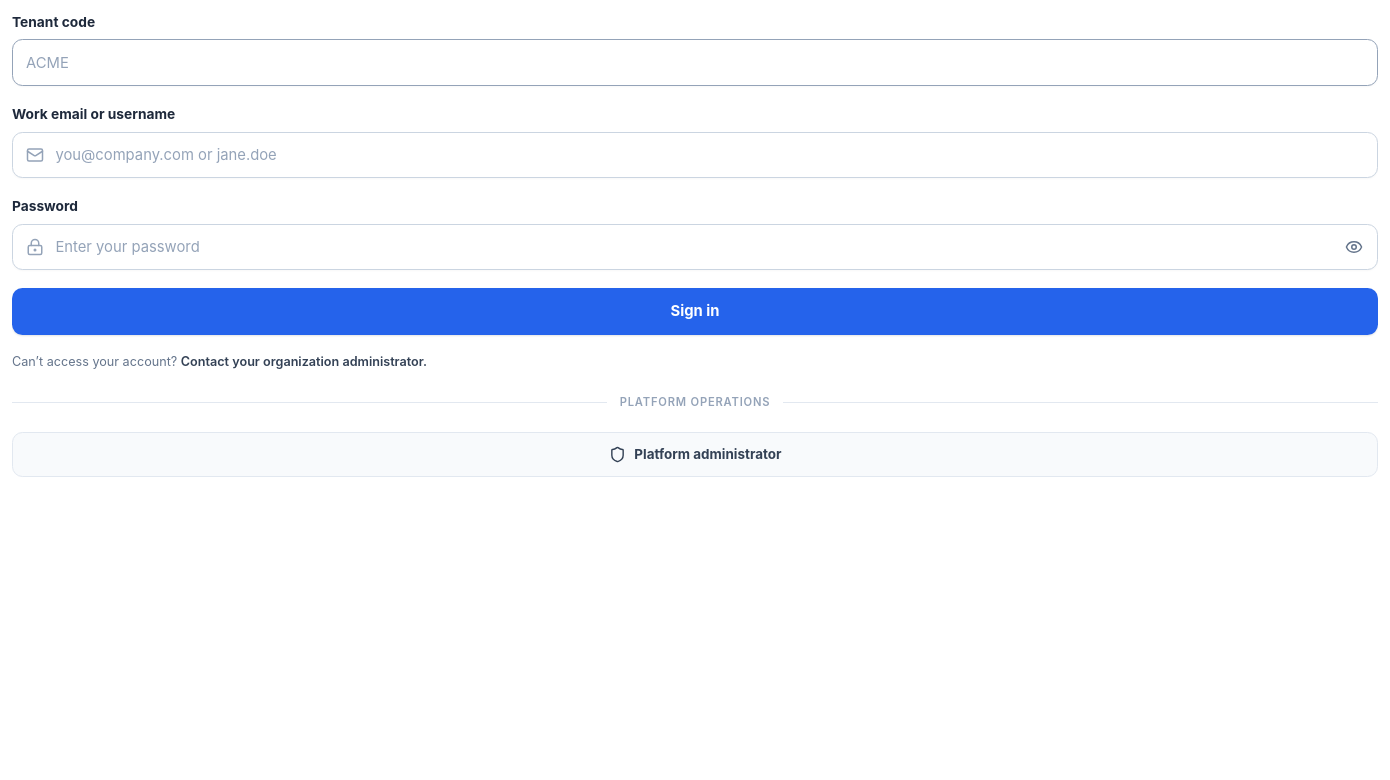
Test: TenantLoginForm › announces validation errors and does not submit invalid values
Click the button "Sign in" at (695, 312), box x1=12 y1=288 x2=1378 y2=335
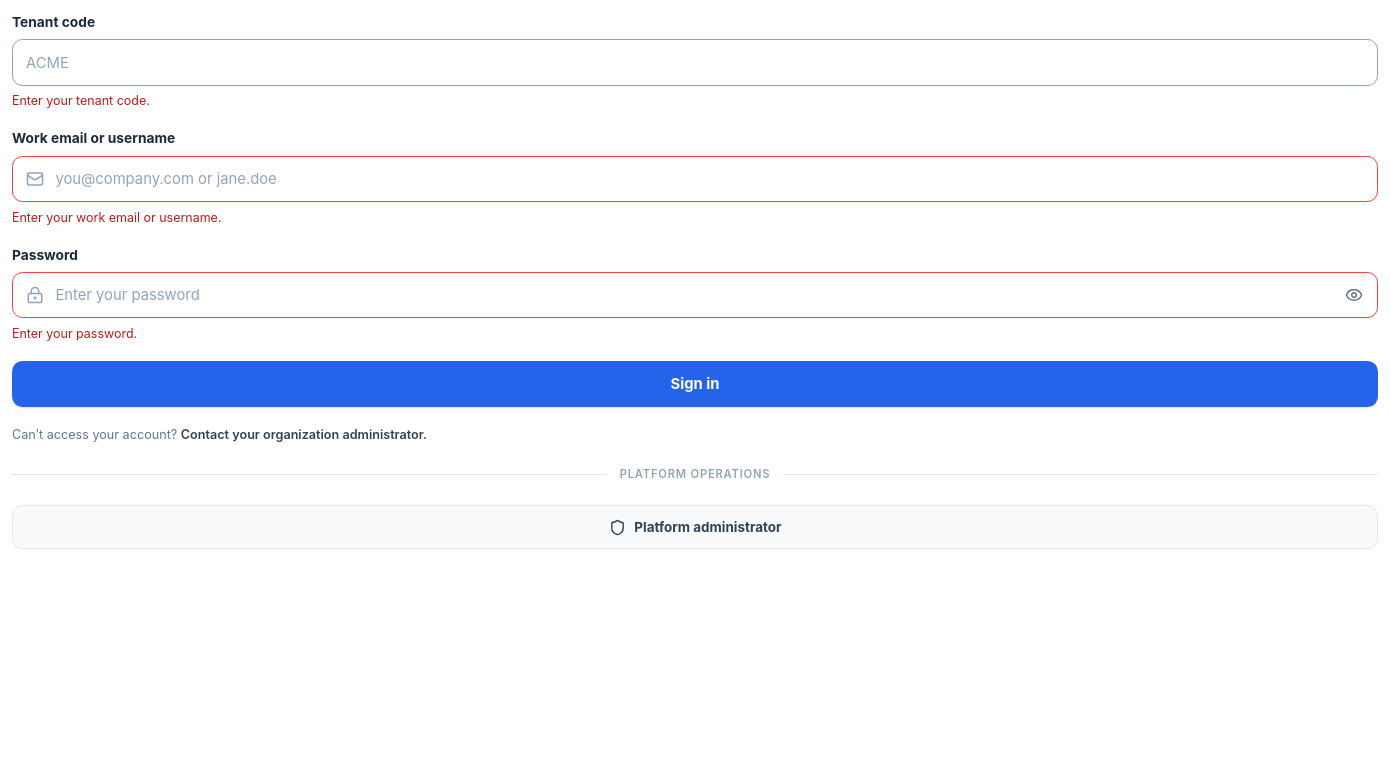
Expected: the text "Enter your work email or username." is shown, x1=12 y1=210 x2=222 y2=225
Expected: the text "Enter your password." is shown, x1=12 y1=326 x2=137 y2=341
